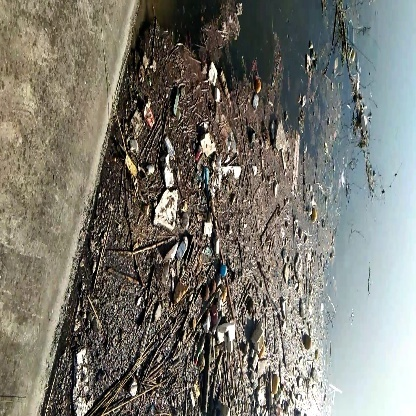branch: (192, 336, 218, 407)
